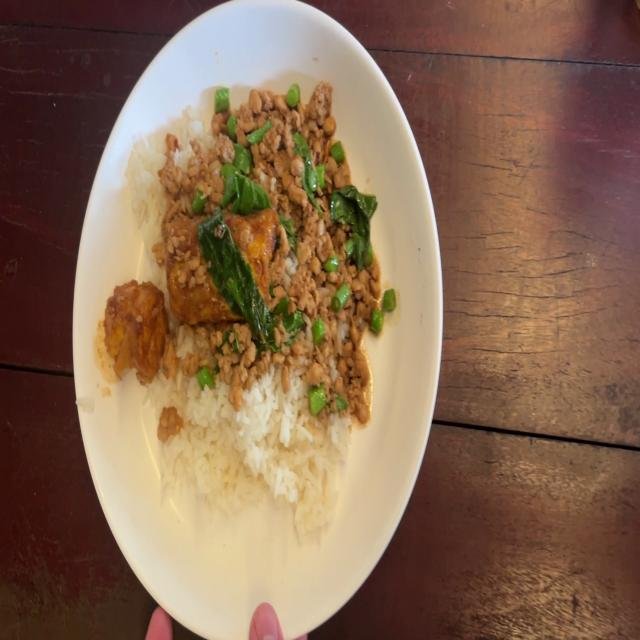01rice: (150, 381, 354, 532), (124, 124, 166, 243), (178, 100, 206, 150)
fried_tofo: (169, 206, 276, 317), (109, 280, 165, 372)
minced_pork: (276, 73, 395, 324), (167, 323, 376, 411), (164, 81, 275, 208)
stir_fried_basil: (107, 80, 400, 545)
